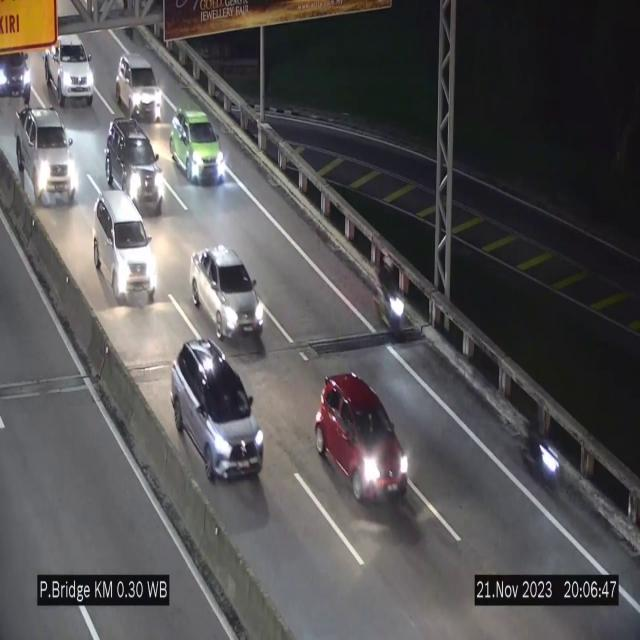Car: (312, 370, 410, 508), (171, 340, 263, 479), (90, 188, 158, 306), (15, 100, 80, 214), (103, 113, 171, 220), (190, 245, 264, 339), (168, 105, 230, 187), (44, 35, 94, 106), (116, 53, 164, 122), (0, 42, 38, 108)
Motorcycle: (372, 246, 406, 351), (525, 406, 559, 502)
